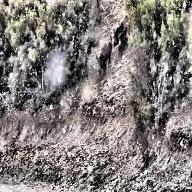boar: (93, 32, 105, 74), (112, 16, 122, 38), (118, 29, 125, 53)
